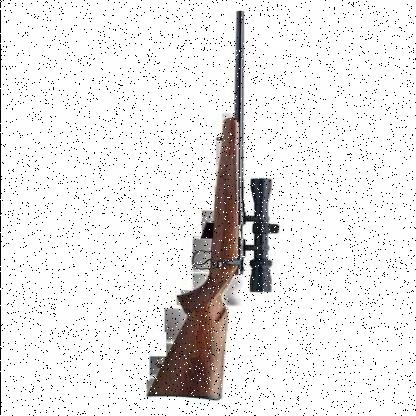rifle: (132, 19, 314, 401)
